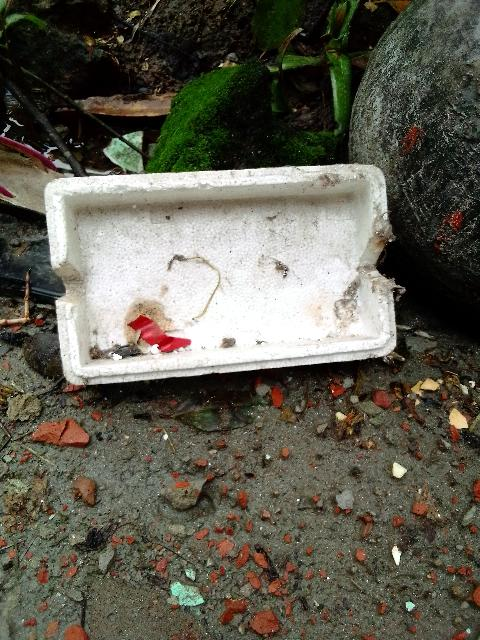cocksheet: (37, 165, 414, 394)
